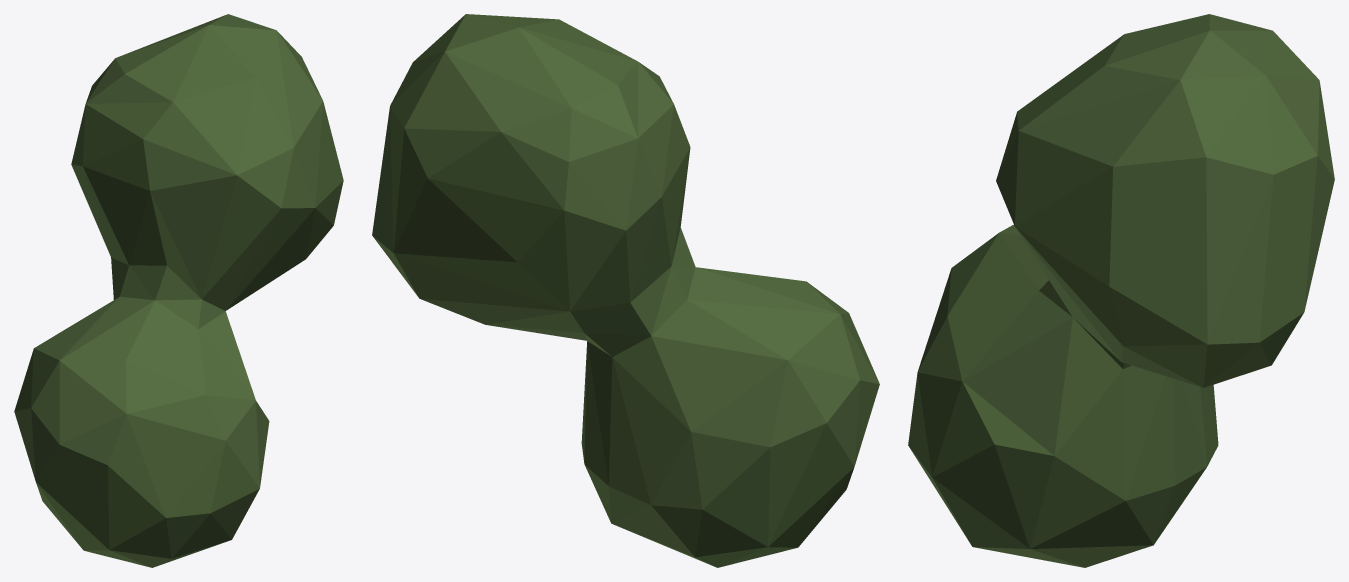
Rendered from algae01.fbx.
3 renders of one model, left to right at view 1: azimuth 30°, elevation 25°; view 2: azimuth 150°, elevation 25°; view 3: azimuth 270°, elevation 25°, orthographic. The views are drawn at different scales.
Visible parts, largest first — view 1: algae_01; view 2: algae_01; view 3: algae_01.
Boxes of the visible parts, x1,y1,x2,y2 form: algae_01: [14, 14, 343, 567]; algae_01: [372, 14, 879, 567]; algae_01: [908, 14, 1334, 567].
Bounding box in the file's own units: 48.13 × 59.92 × 38.96.
